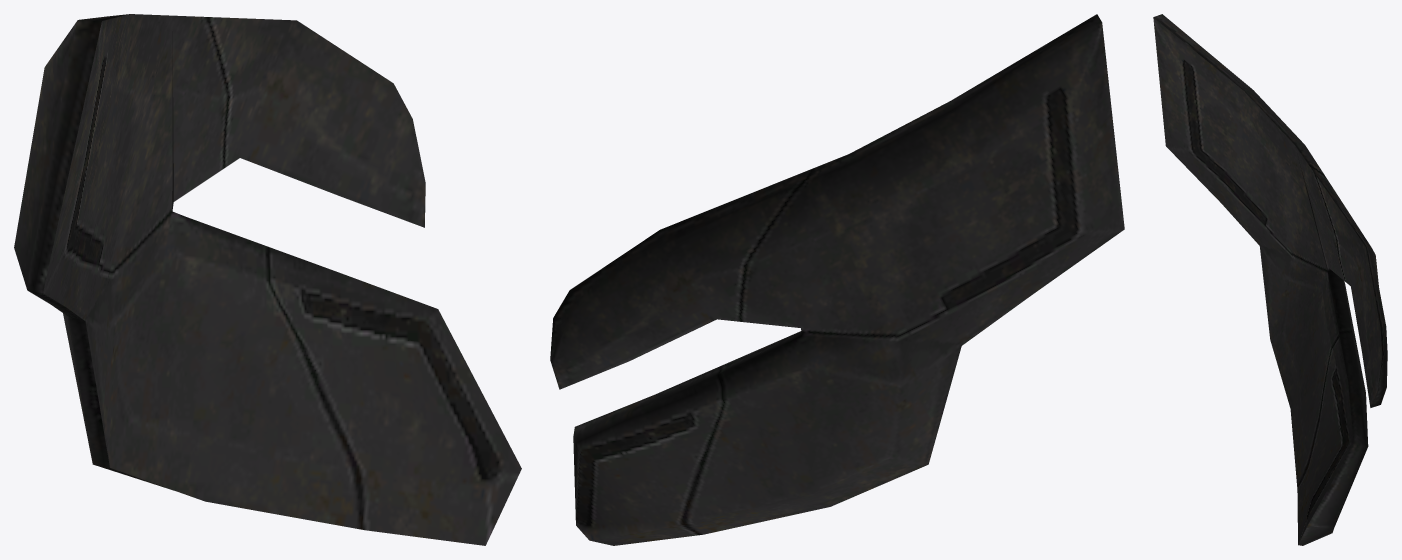
File: armor_chest_high_left.dae
The picture shows the model from 3 angles, left to right: view 1: azimuth 30°, elevation 25°; view 2: azimuth 150°, elevation 25°; view 3: azimuth 270°, elevation 25°; orthographic projection. The views are drawn at different scales.
Visible parts, largest first — view 1: armor_chest_high_left; view 2: armor_chest_high_left; view 3: armor_chest_high_left.
Boxes of the visible parts, x1,y1,x2,y2 form: armor_chest_high_left: [14, 14, 521, 545]; armor_chest_high_left: [550, 14, 1124, 545]; armor_chest_high_left: [1153, 14, 1387, 545].
Size of the model in its own units: 0.4405 by 0.2738 by 0.5095.
1 material, 1 textured.
